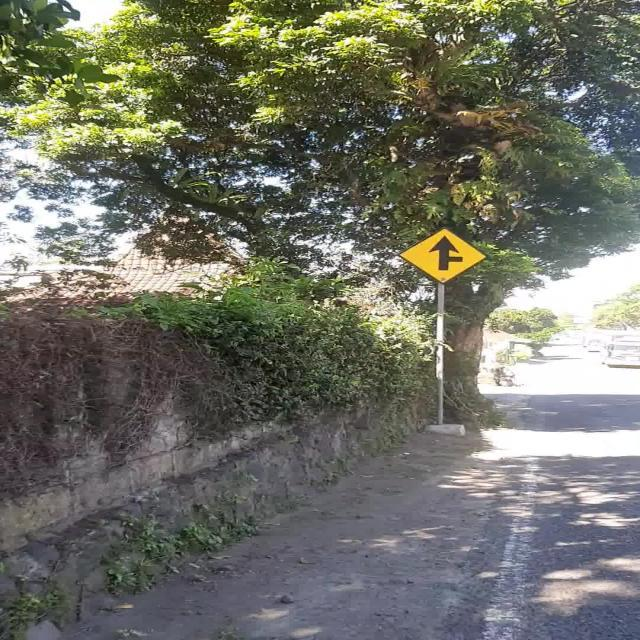Persimpangan 3 Prioritas Kanan: (397, 226, 487, 284)
